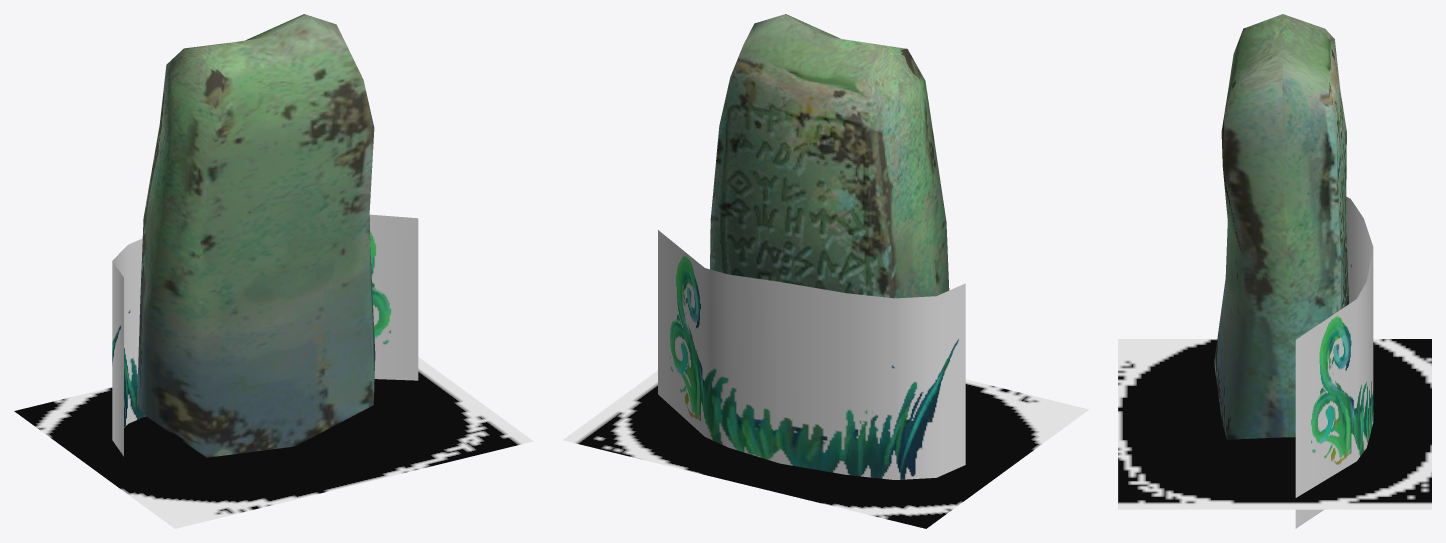
Rendered from Gimmick_portal001.fbx.
3 renders of one model, left to right at view 1: azimuth 30°, elevation 25°; view 2: azimuth 150°, elevation 25°; view 3: azimuth 270°, elevation 25°, orthographic. The views are drawn at different scales.
Visible parts, largest first — view 1: Plane002, gimmick_shadow, Plane003; view 2: Plane002, Plane003, gimmick_shadow; view 3: Plane002, gimmick_shadow, Plane003.
Boxes of the visible parts, <box> form: Plane002: <box>137,14,375,457</box>; gimmick_shadow: <box>14,357,533,528</box>; Plane003: <box>112,214,418,456</box>; Plane002: <box>710,14,949,298</box>; Plane003: <box>658,230,965,479</box>; gimmick_shadow: <box>563,370,1089,528</box>; Plane002: <box>1214,14,1348,439</box>; gimmick_shadow: <box>1118,339,1431,509</box>; Plane003: <box>1295,196,1373,528</box>.
Size of the model in its own units: 1.57 by 1.8 by 1.22.
